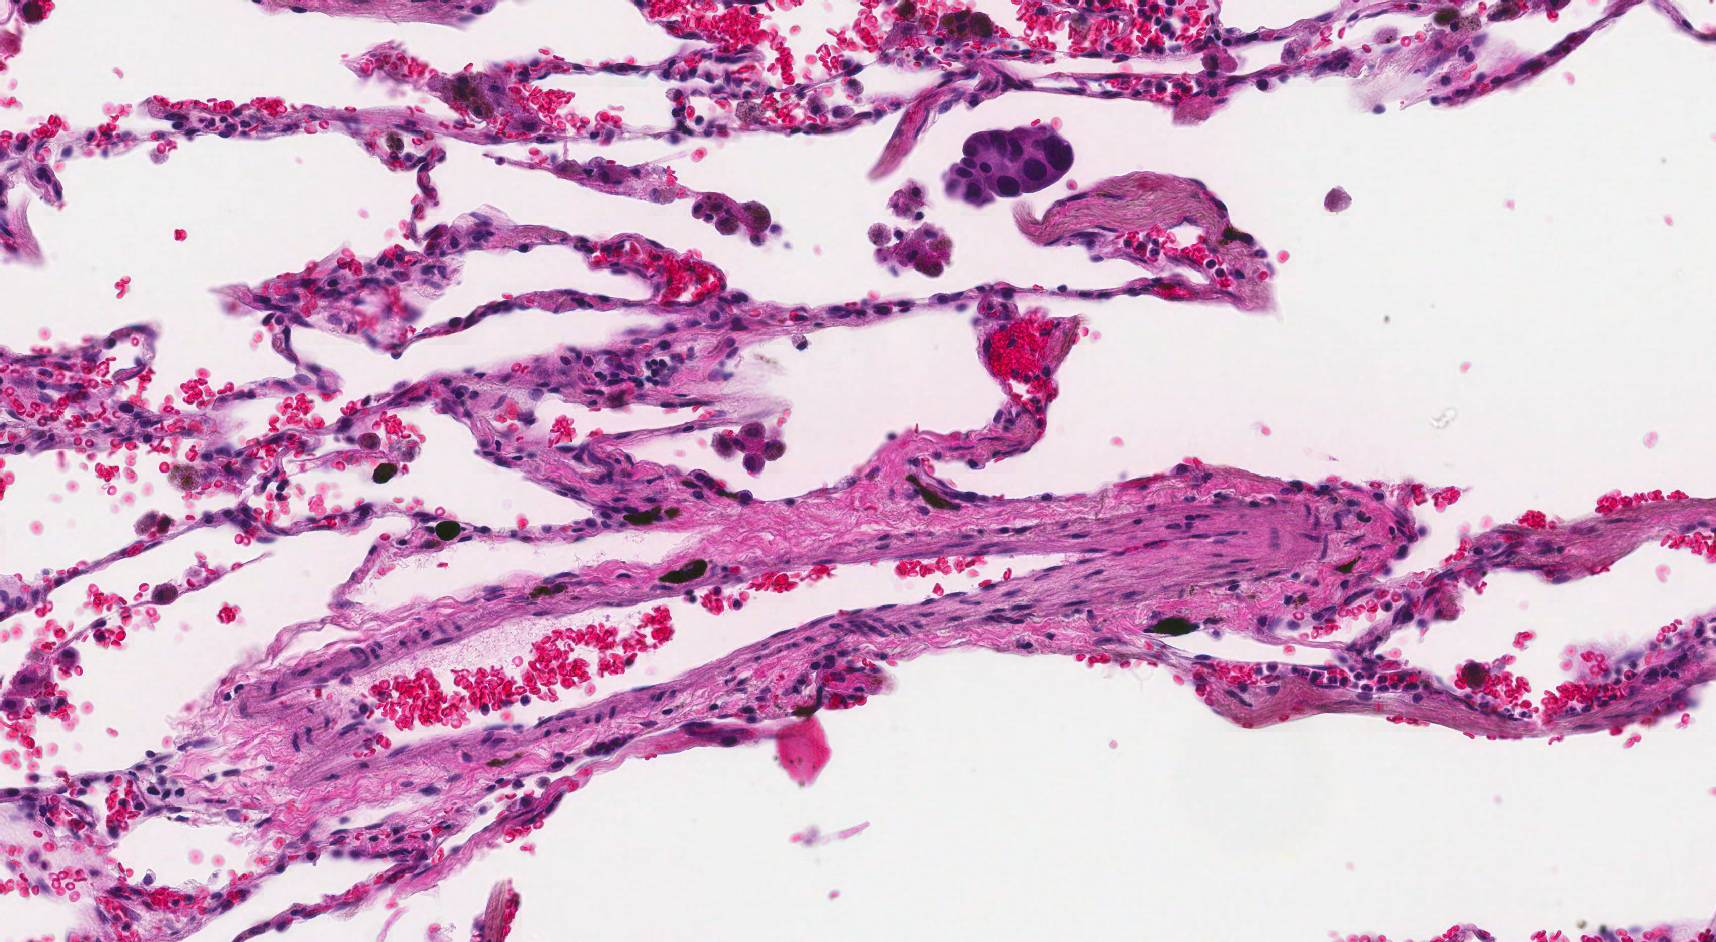stas: (944, 126, 1072, 209)
